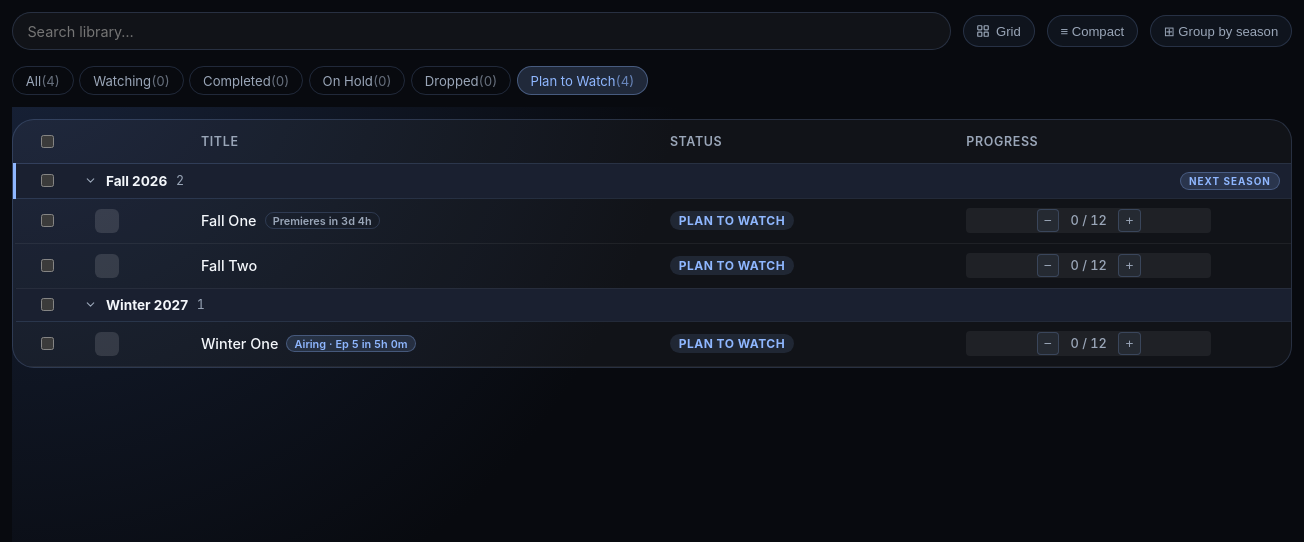
LibraryView selection › checks one season from its header without touching the others
Click the checkbox named "Select all of Fall 2026".
click(48, 181)  # box [41,174,54,188]
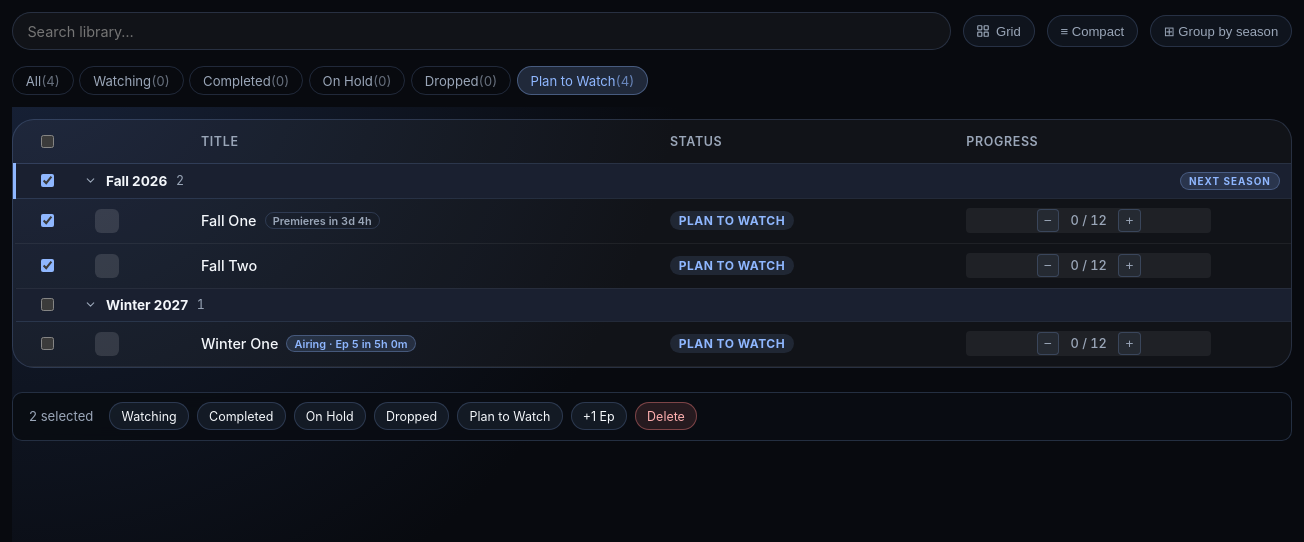
Expected: the text with class "batch-count" reads "2 selected", [29,408,93,424]
